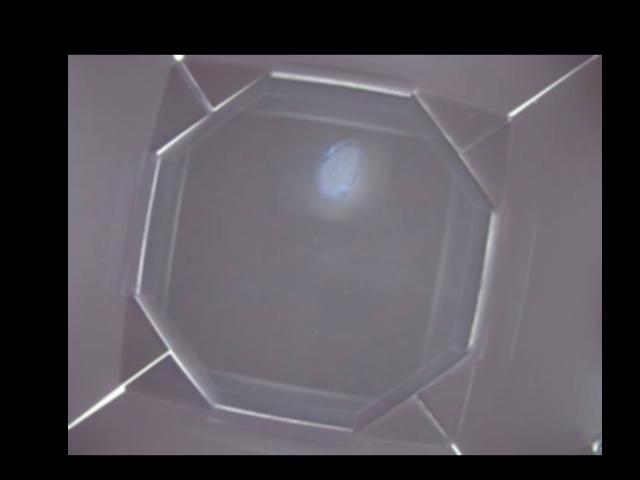Pebble: (318, 137, 362, 200)
